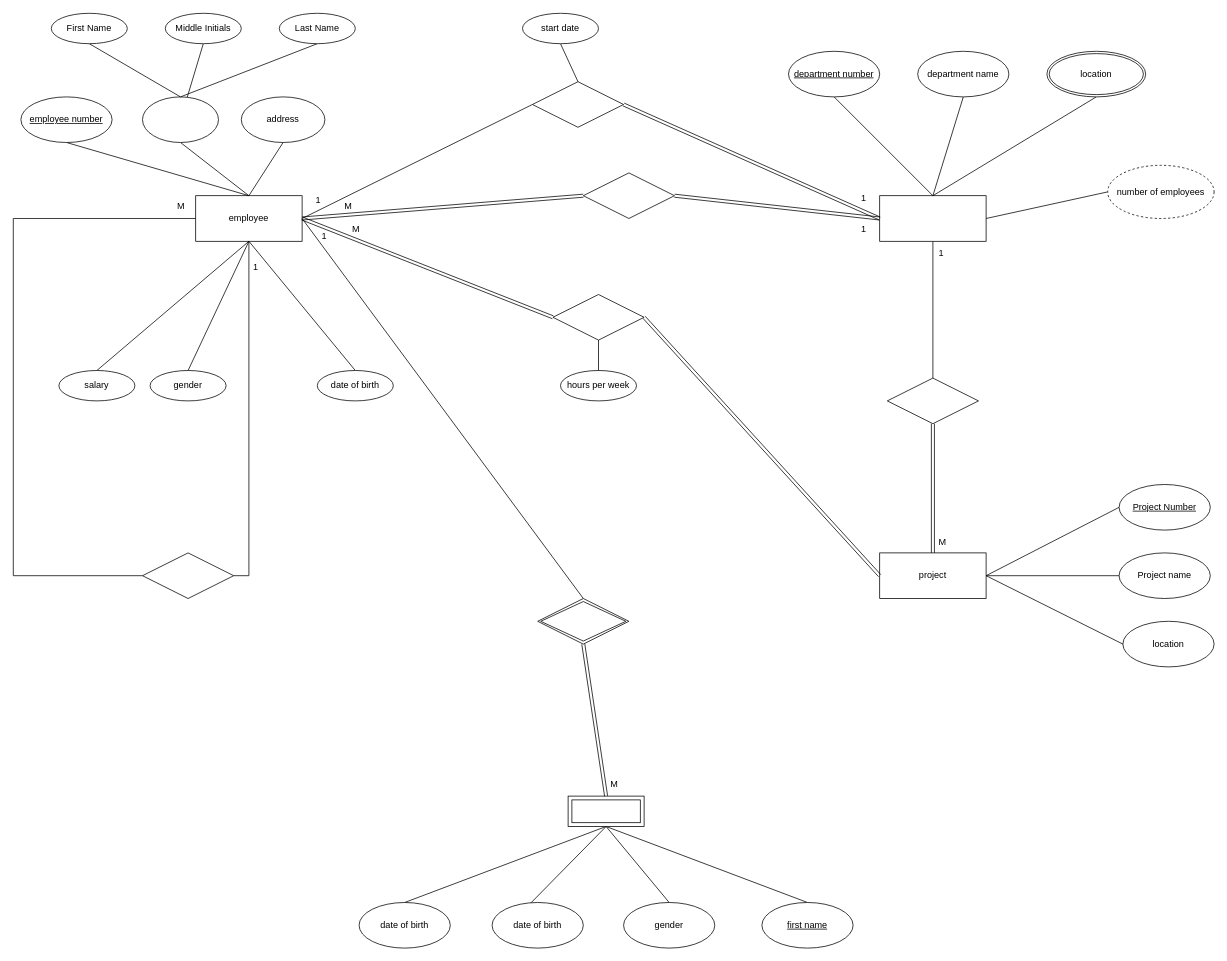
Image size: 1227x961. Some labels were removed from this diagram. The shapes that lost their labels are listed below. From the top down, each one's centre as x and y in pixels, then its label:
the point at 180,119: name
the point at 578,104: Manages
the point at 628,195: Works for
the point at 932,218: department
the point at 598,317: Works on
the point at 932,400: Controls
the point at 188,575: supervises
the point at 583,621: has
the point at 605,810: Dependent
